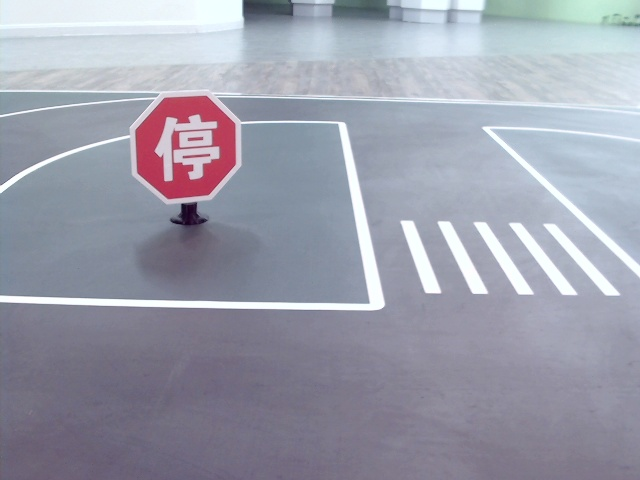stop: (152, 115, 223, 184)
